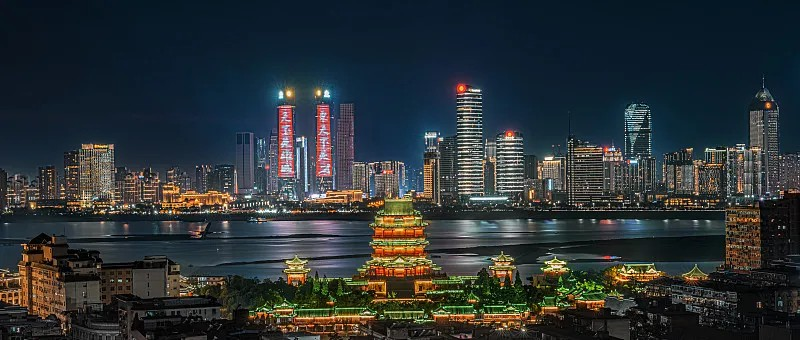Teng: (354, 197, 443, 279)
